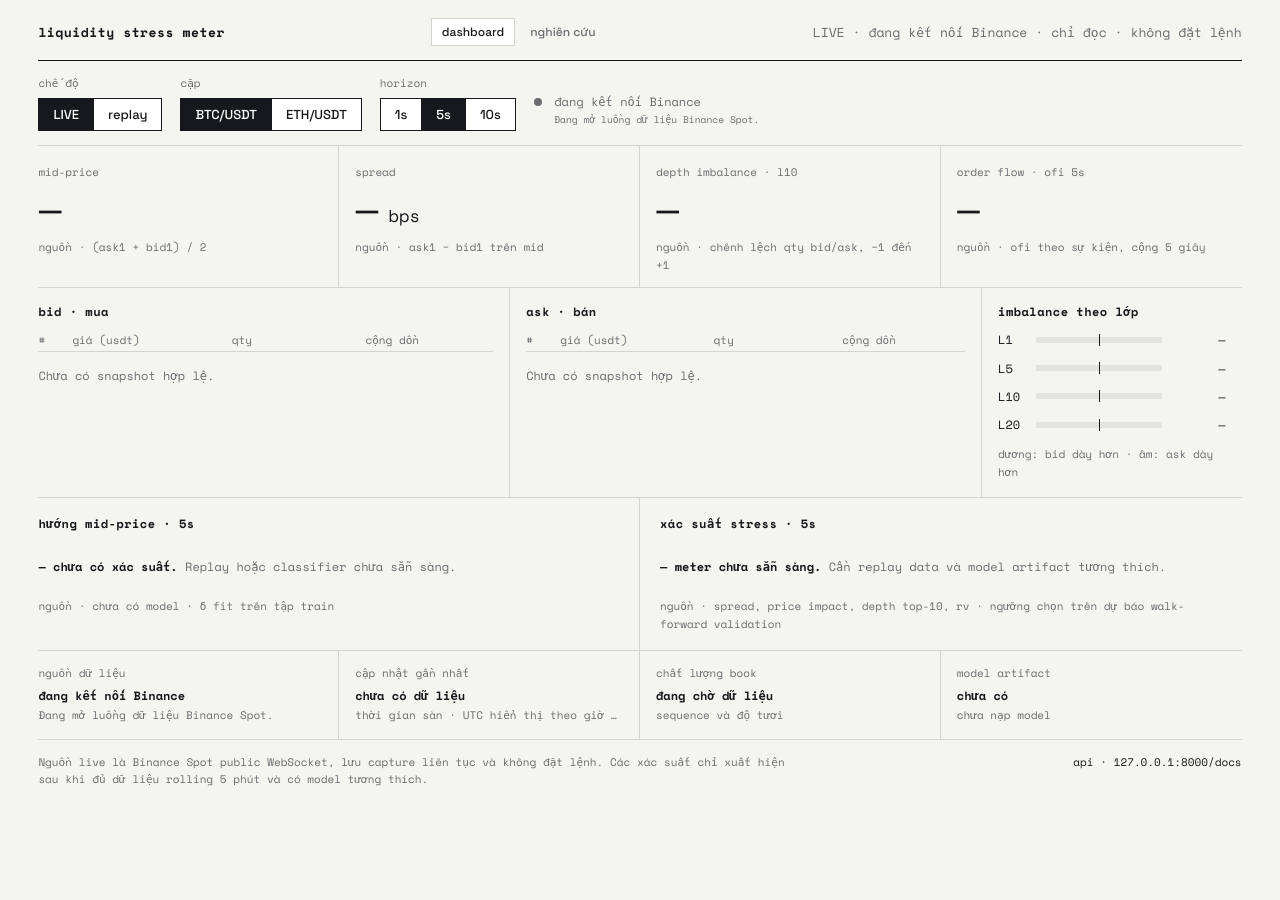
Test: LOBApp stress decision threshold › shows that the decision threshold is unavailable instead of assuming 50 percent
The image size is (1280, 900).
Click the button "replay": [128, 114] box x1=94 y1=99 x2=162 y2=130
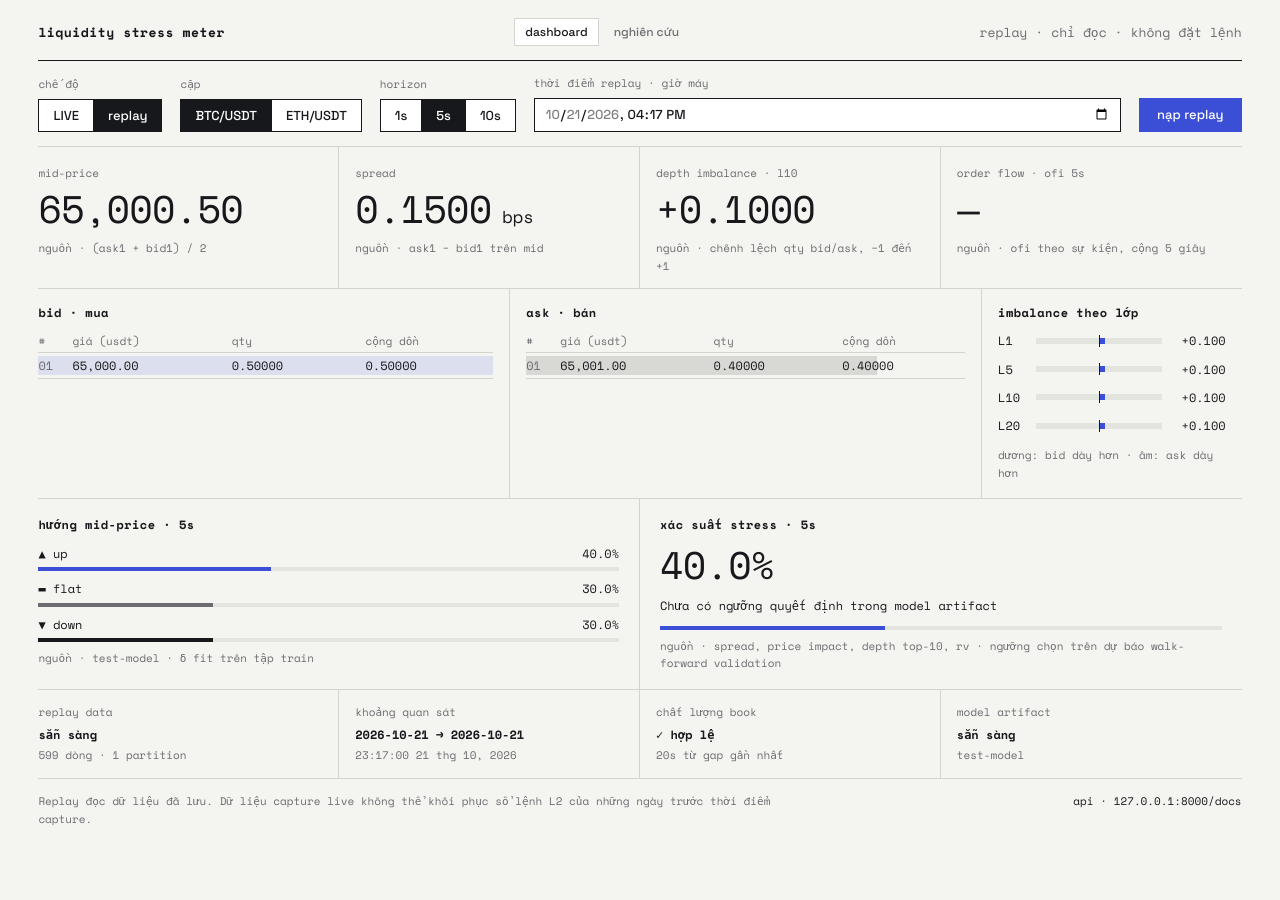
Expected: the text "Chưa có ngưỡng quyết định trong model artifact" is shown, x1=660 y1=597 x2=997 y2=614
